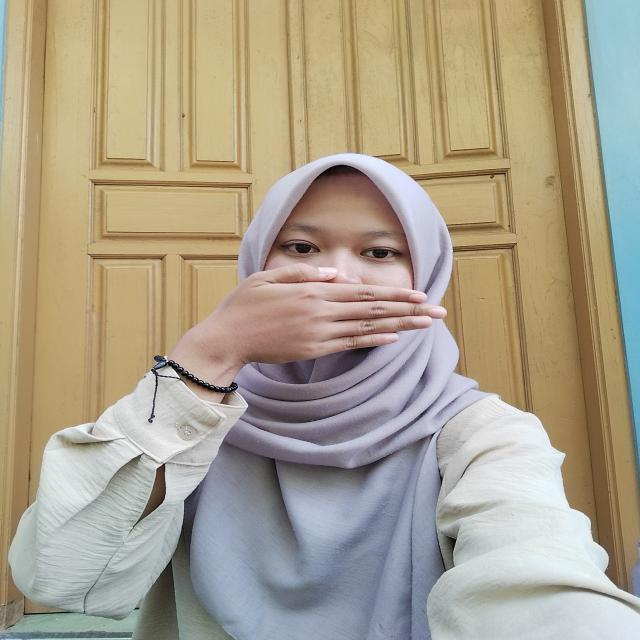buruk: (194, 256, 459, 367)
